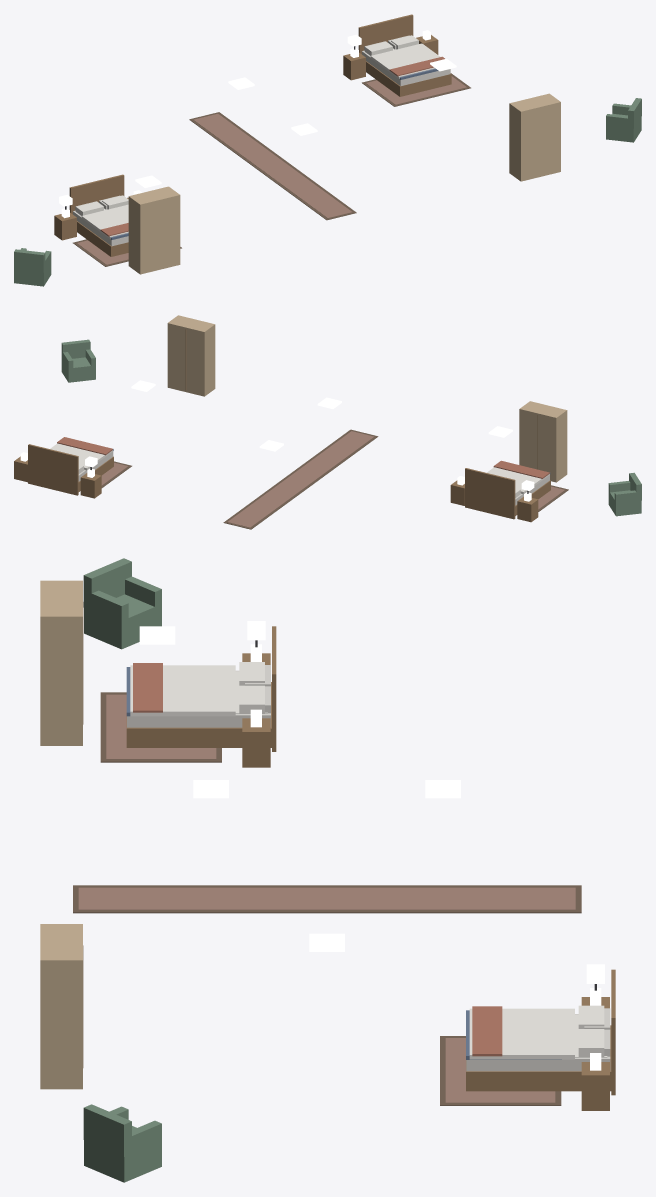
File: fine-s1.glb
The picture shows the model from 3 angles, top to bottom: view 1: azimuth 30°, elevation 25°; view 2: azimuth 150°, elevation 25°; view 3: azimuth 270°, elevation 25°; orthographic projection. The views are drawn at different scales.
Visible parts, largest first — view 1: soft-s1, dresser.000, dresser.001, bed-frame.001, bed-frame.000, lounge-chair.001, lounge-chair.000, nightstand.000, nightstand.002; view 2: soft-s1, dresser.001, dresser.000, bed-frame.000, bed-frame.001, lounge-chair.001, lounge-chair.000, nightstand.000, nightstand.002, nightstand.001, nightstand.003; view 3: soft-s1, dresser.000, dresser.001, lounge-chair.000, bed-frame.001, bed-frame.000, lounge-chair.001, nightstand.001, nightstand.003.
Boxes of the visible parts, <box> form: soft-s1: <box>59,34,470,266</box>; dresser.000: <box>128,186,180,274</box>; dresser.001: <box>509,93,560,181</box>; bed-frame.001: <box>358,14,451,96</box>; bed-frame.000: <box>69,174,128,256</box>; lounge-chair.001: <box>606,98,641,142</box>; lounge-chair.000: <box>14,248,51,286</box>; nightstand.000: <box>54,208,76,240</box>; nightstand.002: <box>343,47,365,80</box>; soft-s1: <box>50,429,568,529</box>; dresser.001: <box>167,315,215,396</box>; dresser.000: <box>519,401,567,482</box>; bed-frame.000: <box>465,468,550,519</box>; bed-frame.001: <box>28,444,113,495</box>; lounge-chair.001: <box>61,339,95,382</box>; lounge-chair.000: <box>608,472,641,516</box>; nightstand.000: <box>517,492,538,522</box>; nightstand.002: <box>80,468,101,498</box>; nightstand.001: <box>450,476,464,505</box>; nightstand.003: <box>14,452,27,482</box>; soft-s1: <box>73,621,607,1105</box>; dresser.000: <box>40,580,83,745</box>; dresser.001: <box>40,924,83,1089</box>; lounge-chair.000: <box>83,558,161,649</box>; bed-frame.001: <box>466,969,615,1095</box>; bed-frame.000: <box>126,626,276,751</box>; lounge-chair.001: <box>83,1104,161,1182</box>; nightstand.001: <box>242,709,270,767</box>; nightstand.003: <box>581,1053,609,1110</box>.
Size of the model in its own units: 18.81 by 2 by 8.07.
